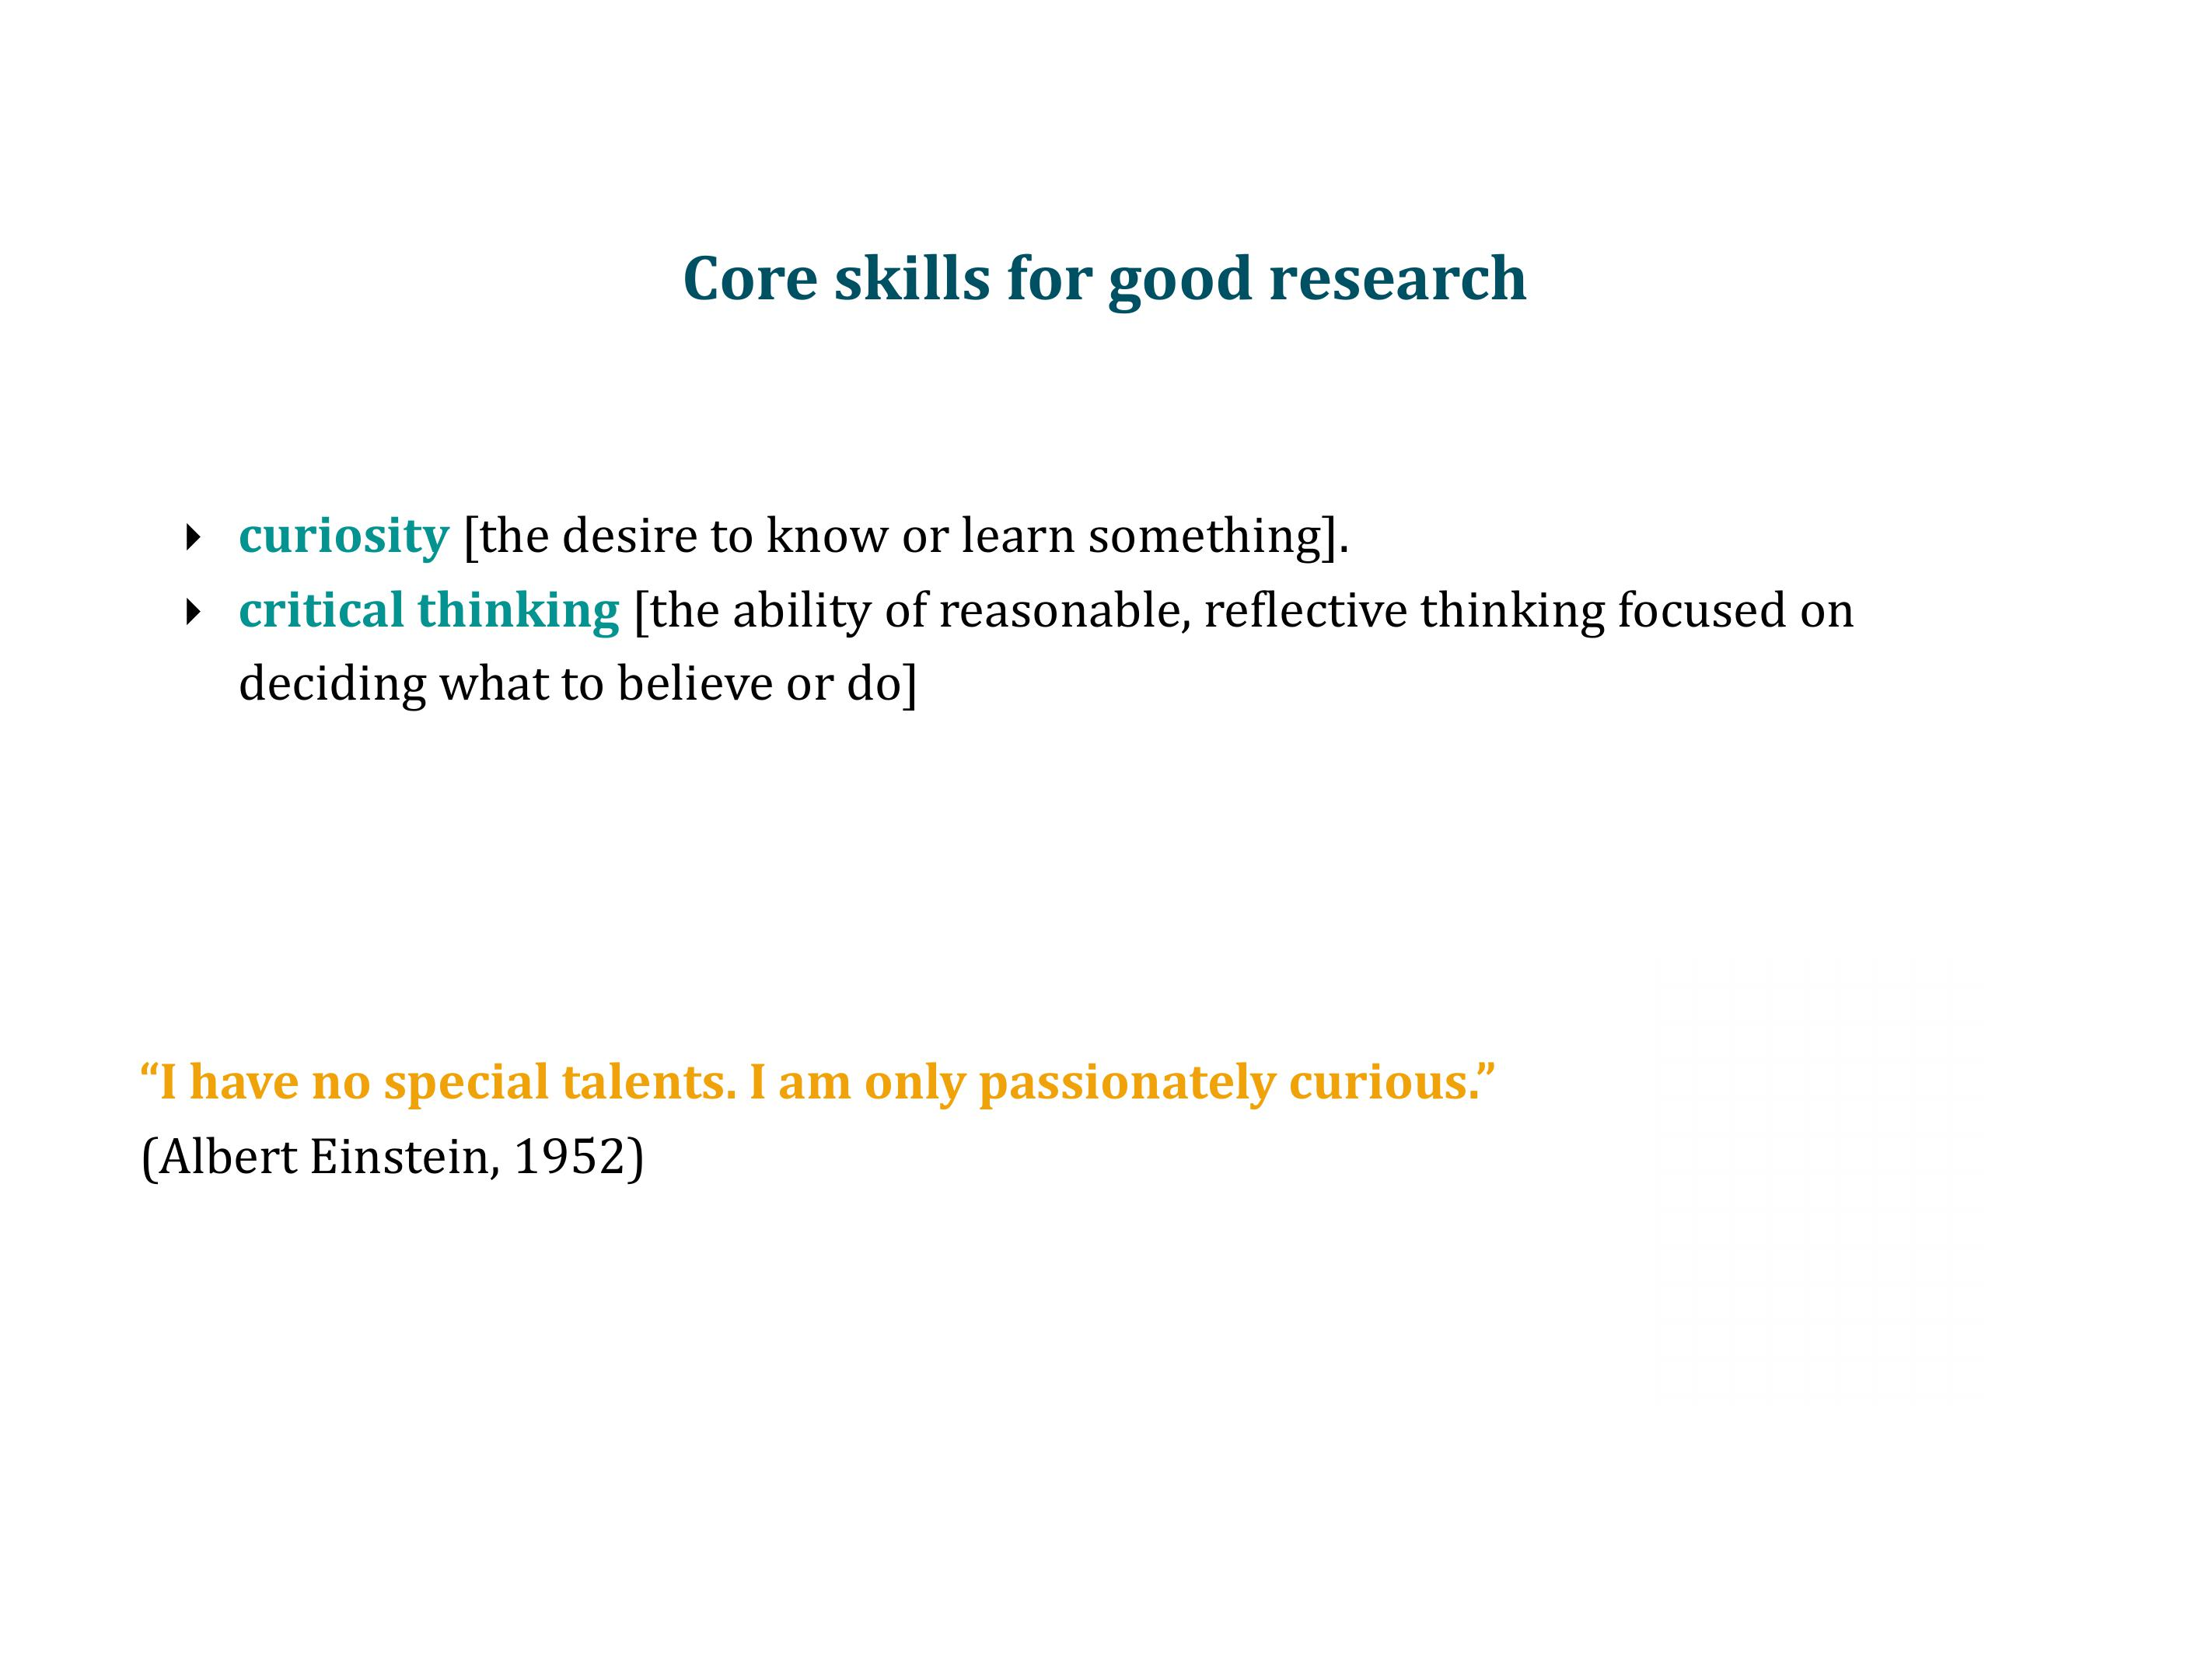Title: (668, 230, 1539, 331)
